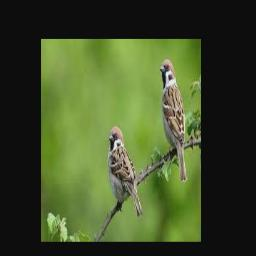Sparrow: (160, 59, 187, 182), (108, 125, 142, 217)
